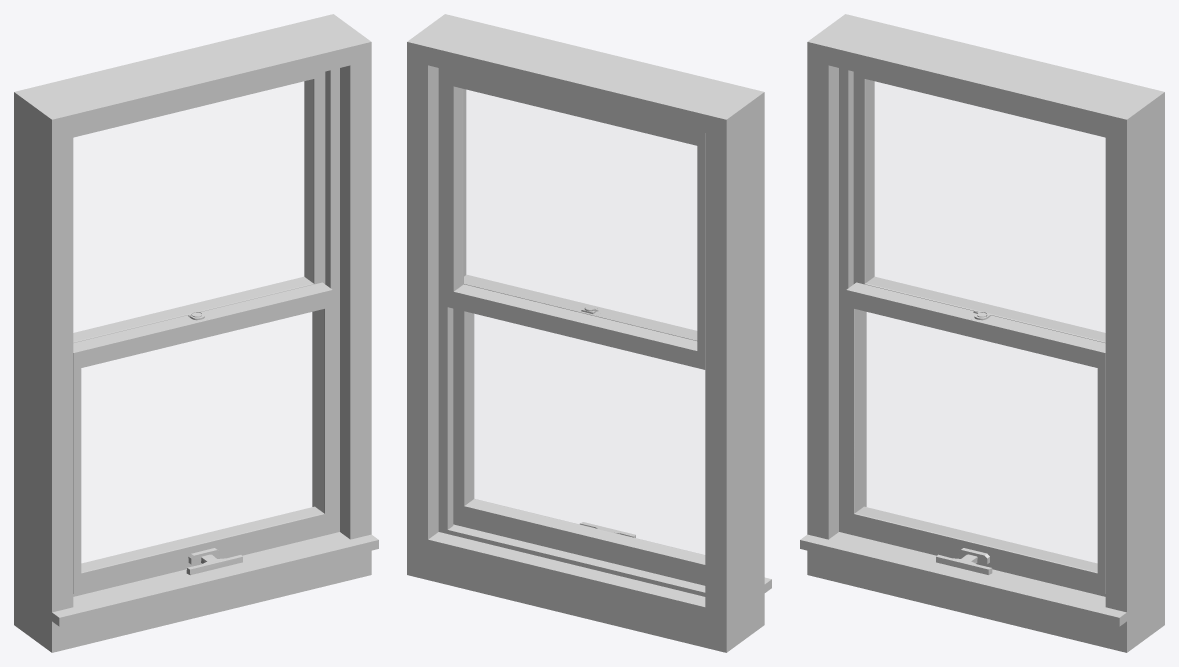
The model's file is GlassWindowSingle001.glb.
3 views of the same model, side by side, from view 1: azimuth 30°, elevation 25°; view 2: azimuth 150°, elevation 25°; view 3: azimuth 330°, elevation 25° (orthographic).
Visible parts, largest first — view 1: WindowSingleFrame002[windowframe], WindowSingleFrame001[window], WindowSingleHandle001[window]; view 2: WindowSingleFrame002[windowframe], WindowSingleFrame001[window]; view 3: WindowSingleFrame002[windowframe], WindowSingleFrame001[window], WindowSingleHandle001[window].
Boxes of the visible parts, x1,y1,x2,y2 form: WindowSingleFrame002[windowframe]: [14, 14, 378, 652]; WindowSingleFrame001[window]: [73, 72, 332, 593]; WindowSingleHandle001[window]: [184, 311, 242, 575]; WindowSingleFrame002[windowframe]: [407, 14, 771, 652]; WindowSingleFrame001[window]: [446, 70, 705, 583]; WindowSingleFrame002[windowframe]: [800, 14, 1164, 652]; WindowSingleFrame001[window]: [846, 72, 1105, 593]; WindowSingleHandle001[window]: [936, 311, 994, 574].
Bounding box in the file's own units: 0.6354 × 1.01 × 0.1564.
Materials: 4 (3 with a texture image).
